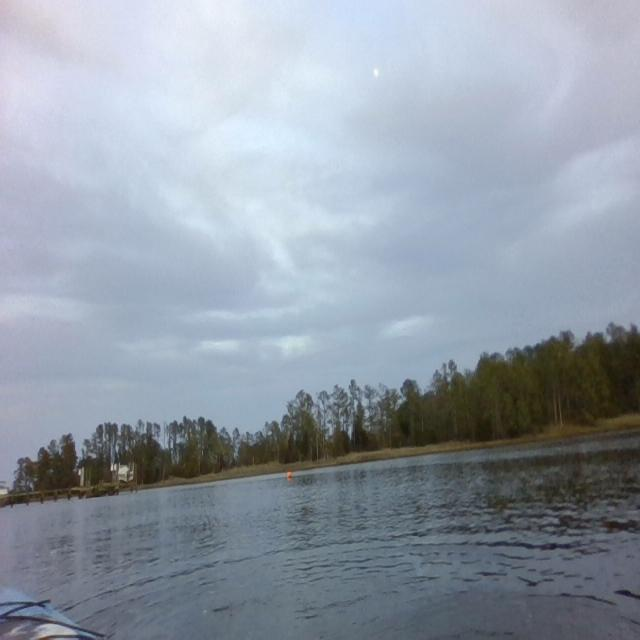Buoy: (286, 470, 292, 481)
